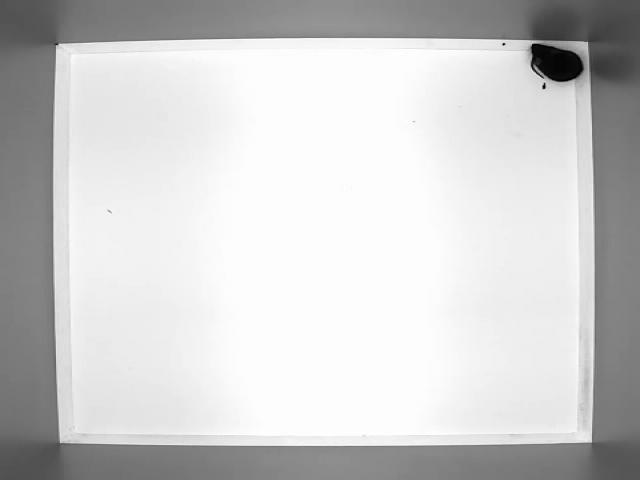Tikus: (518, 39, 590, 90)
